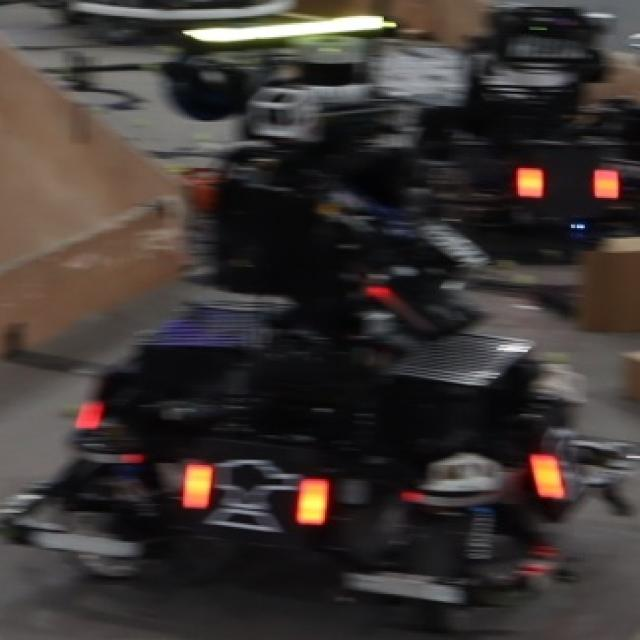Rs: (183, 446, 331, 544), (528, 408, 589, 509)
